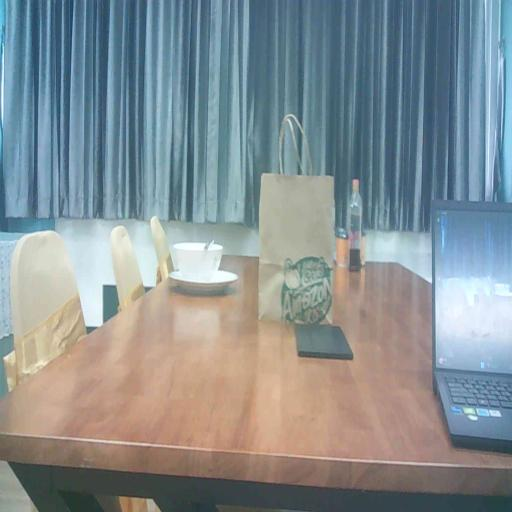bag: (256, 163, 336, 327)
